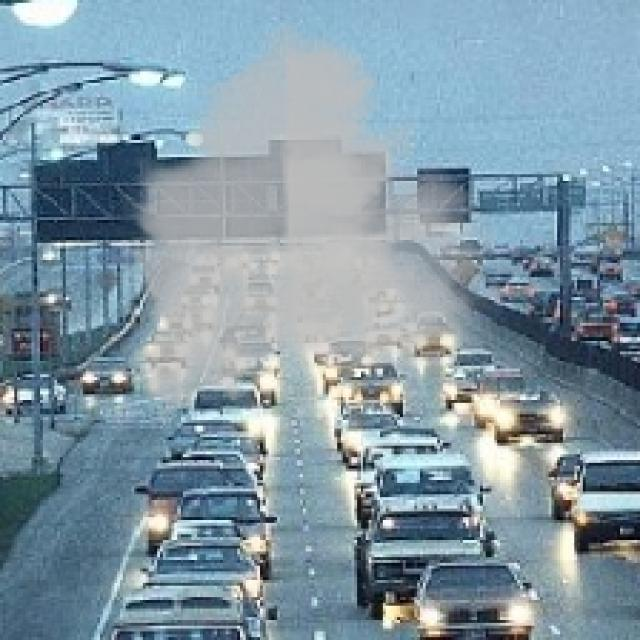smoke: (117, 11, 503, 432)
